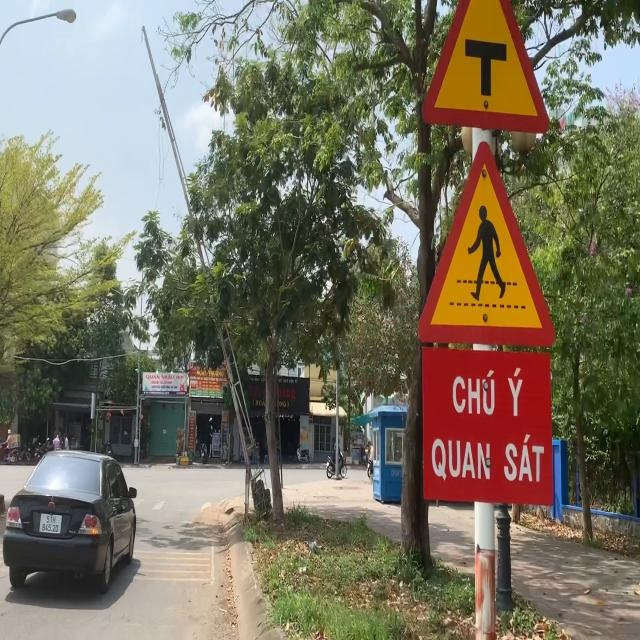bien_nguy_hiem: (412, 136, 558, 349)
